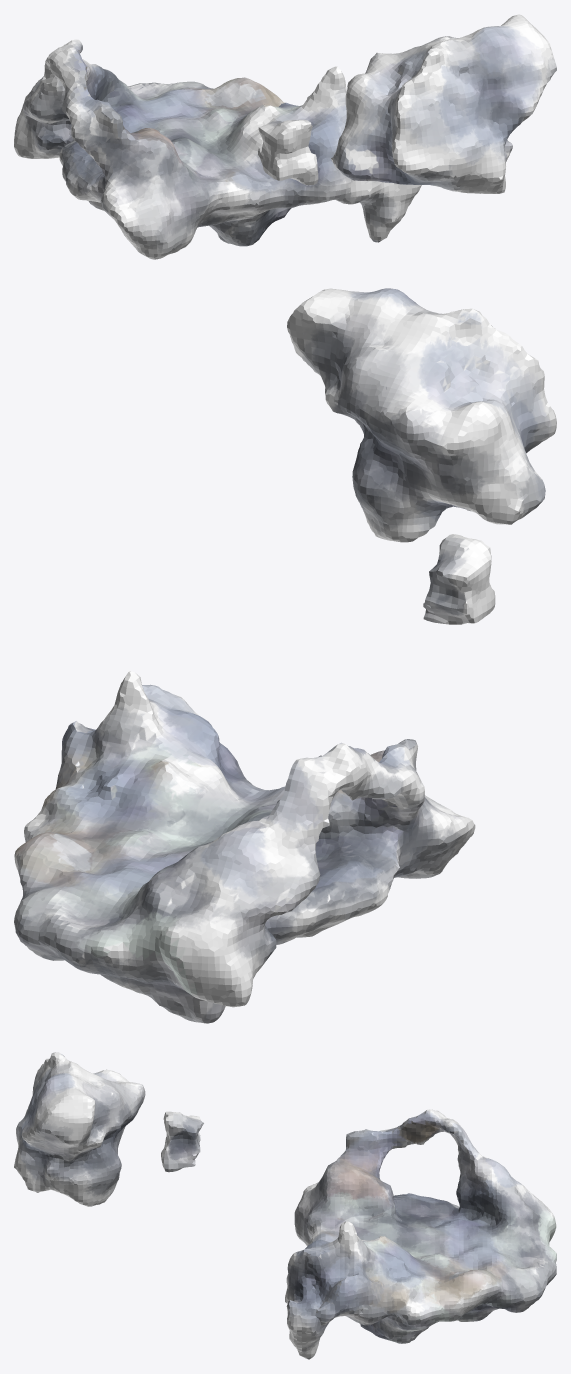
The model's file is island_fin.fbx.
3 renders of one model, top to bottom at view 1: azimuth 30°, elevation 25°; view 2: azimuth 150°, elevation 25°; view 3: azimuth 270°, elevation 25°, orthographic. The views are drawn at different scales.
Parts seen in each view (by area): view 1: island; view 2: island; view 3: island.
Boxes of the visible parts, x1=… form: island: x1=14, y1=14, x2=556, y2=259; island: x1=14, y1=288, x2=556, y2=1023; island: x1=14, y1=1052, x2=556, y2=1359.
Size of the model in its own units: 1472 by 1661 by 2854.
Materials: 1 (1 with a texture image).
